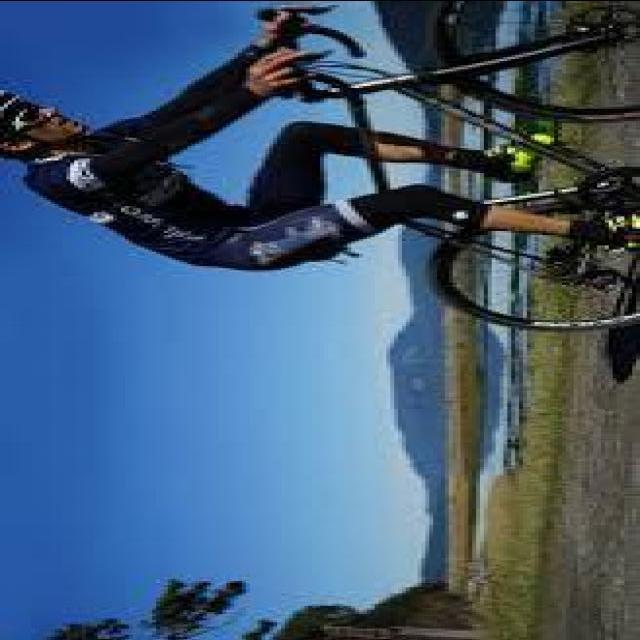bicycle: (282, 3, 633, 343)
